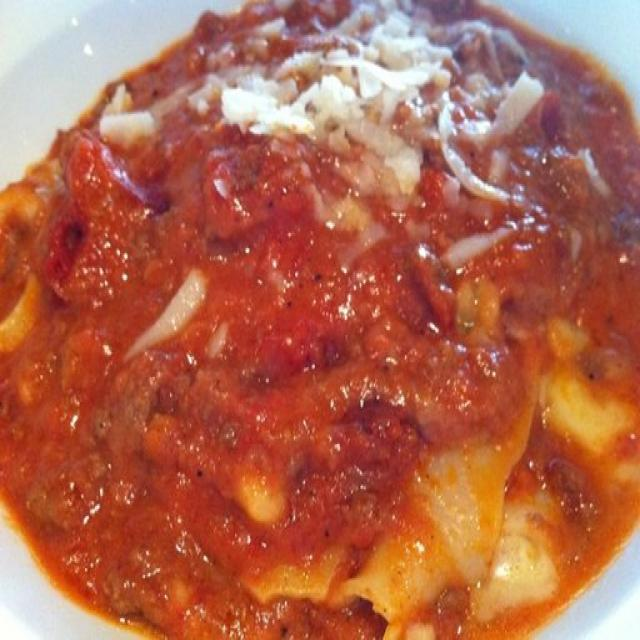Lasagna: (14, 4, 640, 612)
